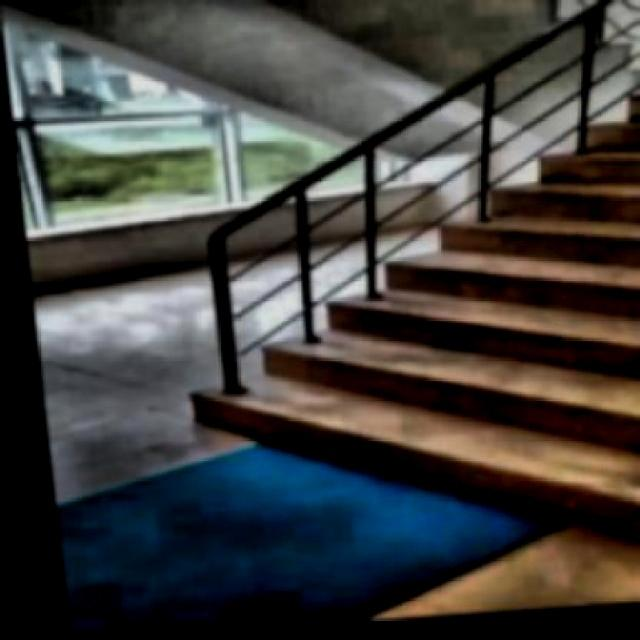stair: (138, 100, 638, 603)
